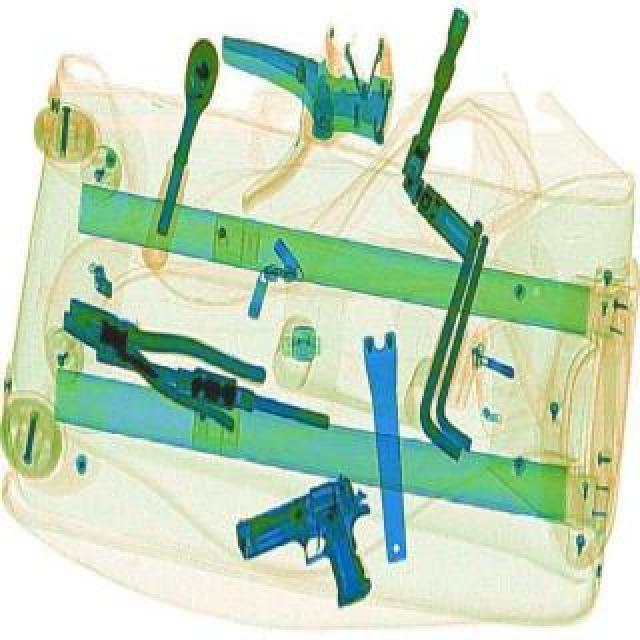gun: (226, 474, 414, 638)
wrench: (44, 294, 272, 438)
